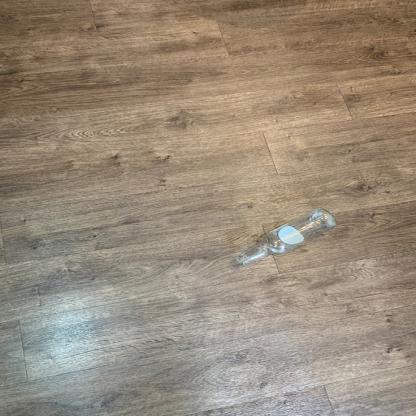trash: (228, 206, 337, 270)
